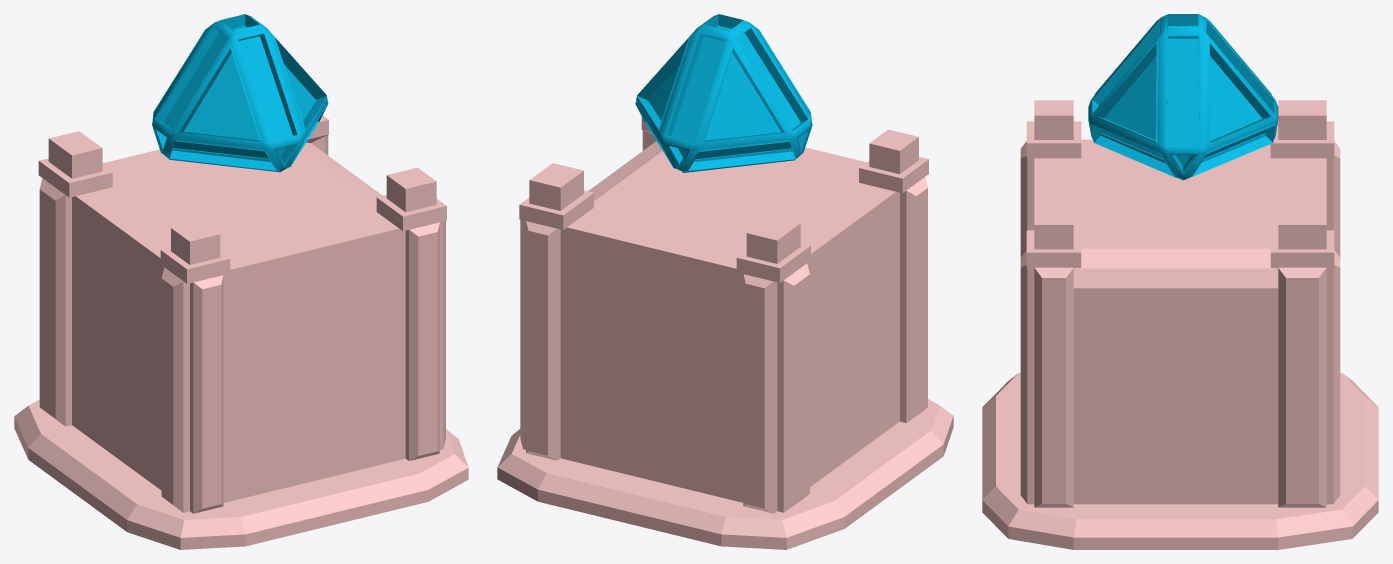
The picture shows the model from 3 angles, left to right: view 1: azimuth 30°, elevation 25°; view 2: azimuth 150°, elevation 25°; view 3: azimuth 270°, elevation 25°; orthographic projection. The views are drawn at different scales.
Parts seen in each view (by area): view 1: Tower1, Crystal_1; view 2: Tower1, Crystal_1; view 3: Tower1, Crystal_1.
Part boxes in pixels (x1,y1,x2,y2): Tower1: (14,115,468,549); Crystal_1: (152,14,328,172); Tower1: (497,117,953,549); Crystal_1: (635,14,812,172); Tower1: (982,100,1378,549); Crystal_1: (1088,14,1278,180).
Size of the model in its own units: 0.8832 by 1.1 by 0.8832.
